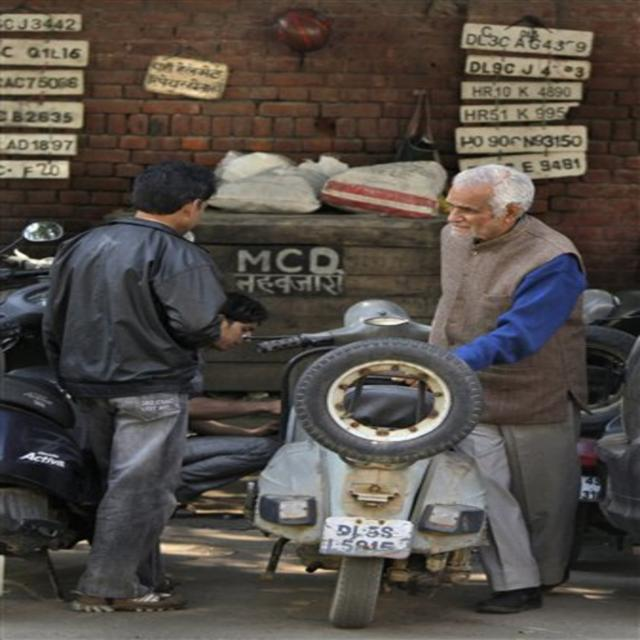motorcycle: (249, 300, 486, 628)
